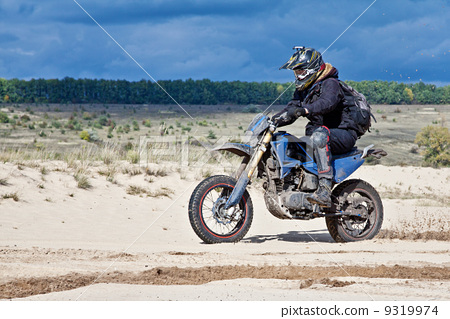helmet: (282, 41, 323, 86)
